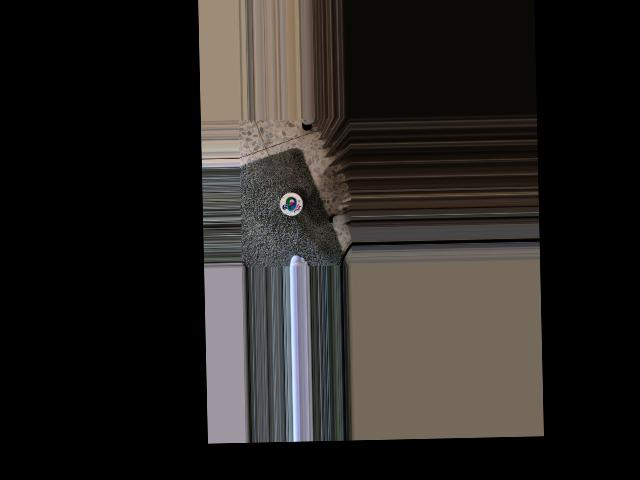cotage: (279, 191, 303, 215)
